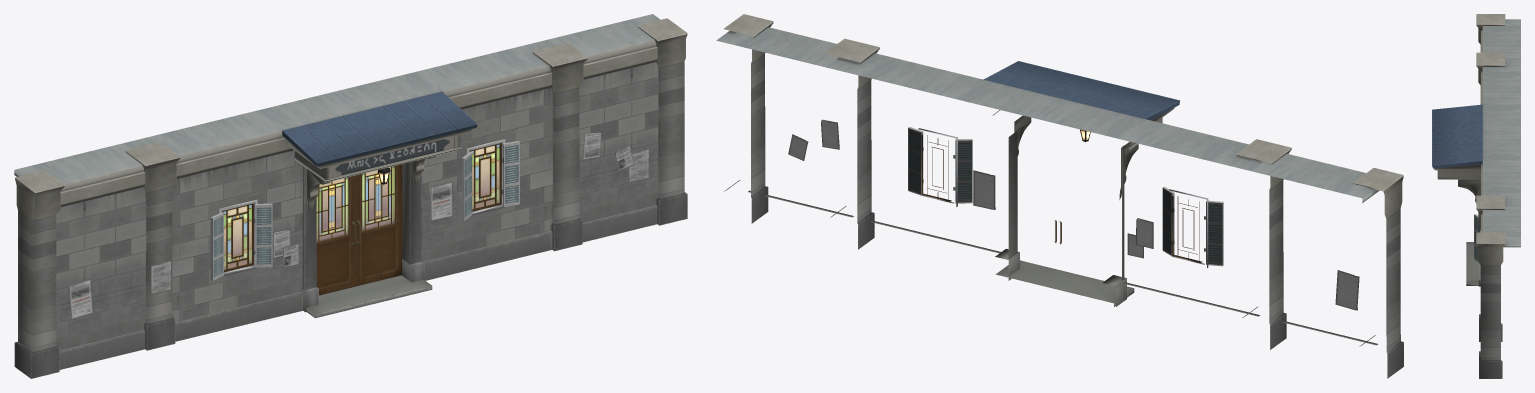
Rendered from t1_b_handsome.glb.
3 views of the same model, side by side, from view 1: azimuth 30°, elevation 25°; view 2: azimuth 150°, elevation 25°; view 3: azimuth 270°, elevation 25° (orthographic). The views are drawn at different scales.
Visible parts, largest first — view 1: nomerge_t1_b_handsome_mesh; view 2: nomerge_t1_b_handsome_mesh; view 3: nomerge_t1_b_handsome_mesh.
Part boxes in pixels (x1,y1,x2,y2): nomerge_t1_b_handsome_mesh: (14, 14, 687, 378); nomerge_t1_b_handsome_mesh: (716, 14, 1403, 378); nomerge_t1_b_handsome_mesh: (1432, 14, 1520, 378).
Size of the model in its own units: 13.99 by 3.82 by 2.28.
2 materials, 2 textured.
